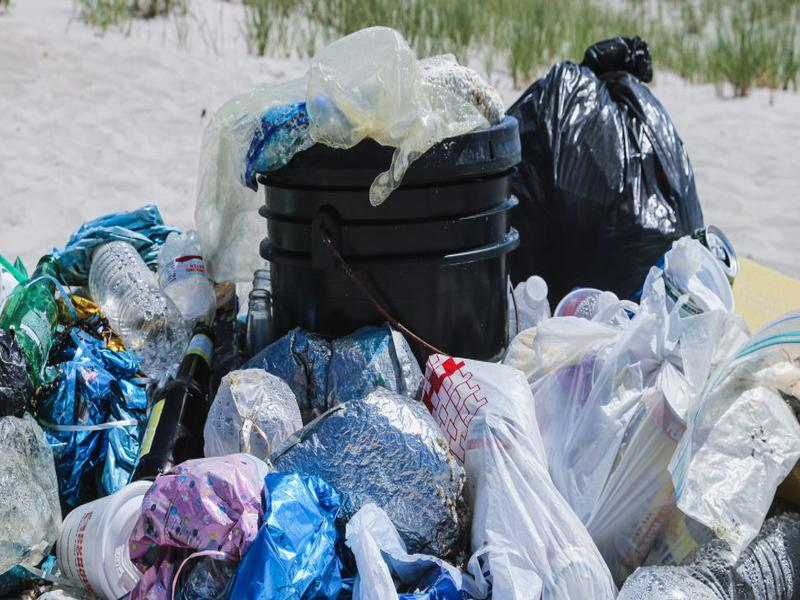bottle: (81, 238, 194, 380)
cup: (46, 477, 155, 598)
plastic: (510, 26, 707, 294), (514, 311, 687, 557), (303, 23, 479, 207), (458, 414, 630, 600), (130, 450, 275, 600), (48, 329, 147, 495), (230, 468, 352, 600), (431, 351, 563, 450), (191, 94, 258, 280), (201, 364, 305, 459)
